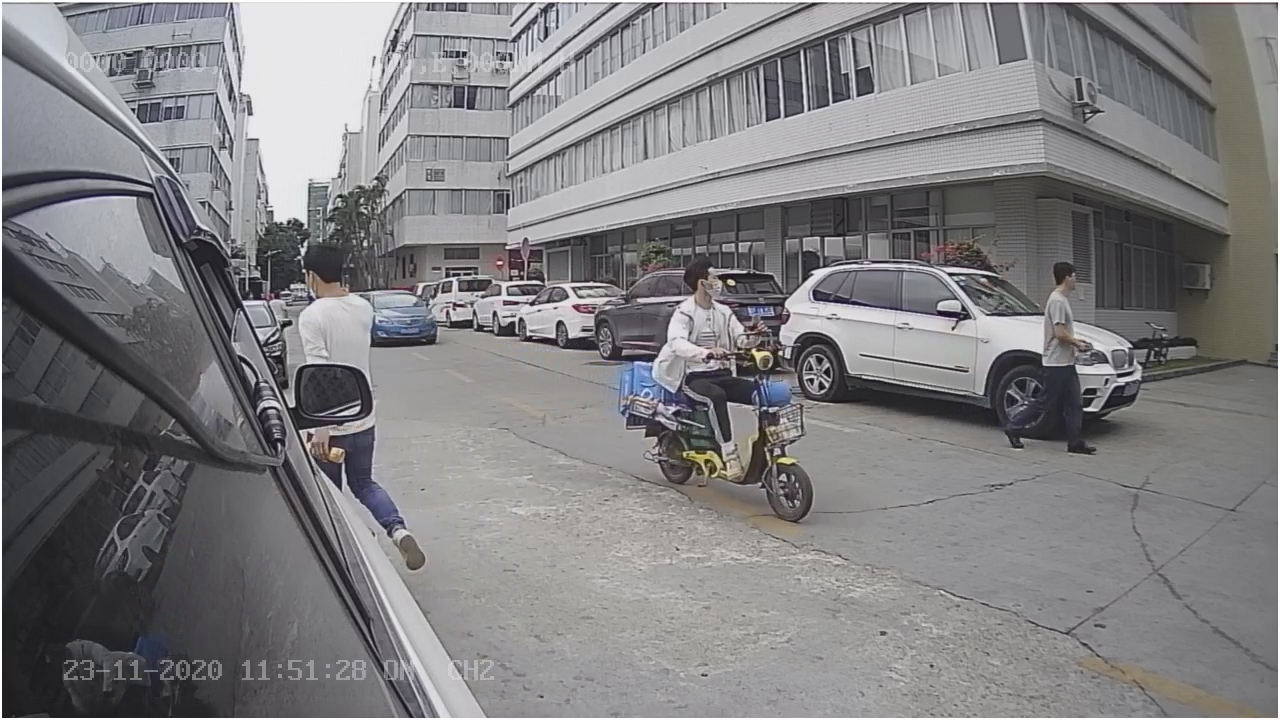person: (1006, 256, 1100, 454), (287, 239, 385, 362), (669, 258, 767, 357)
